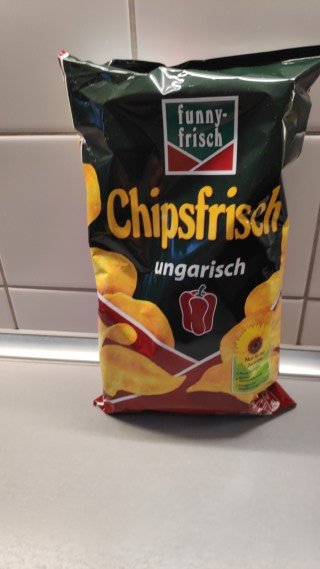chipsfrisch: (57, 44, 319, 420)
